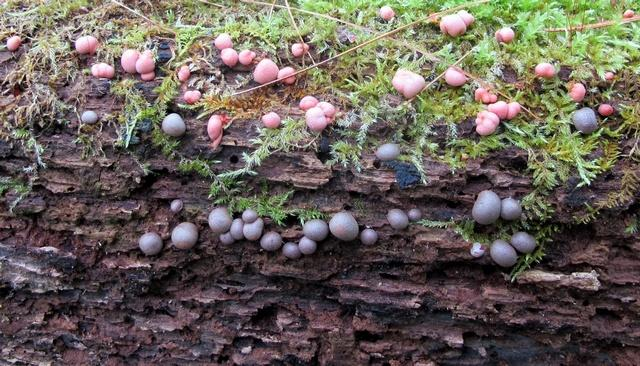poisonous_mushroom: (54, 30, 640, 157), (208, 195, 334, 262), (391, 67, 425, 99), (471, 189, 501, 224), (328, 210, 359, 241), (489, 238, 517, 267), (170, 221, 198, 249), (572, 106, 598, 134), (207, 205, 232, 234), (160, 111, 186, 137), (138, 231, 162, 255), (500, 196, 522, 220), (375, 141, 400, 162), (386, 207, 408, 229)
